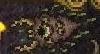crimera: (0, 1, 100, 54)
